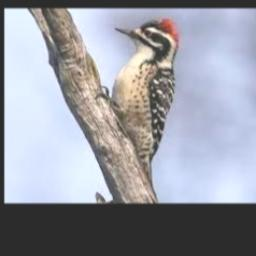Woodpecker: (96, 18, 182, 184)
